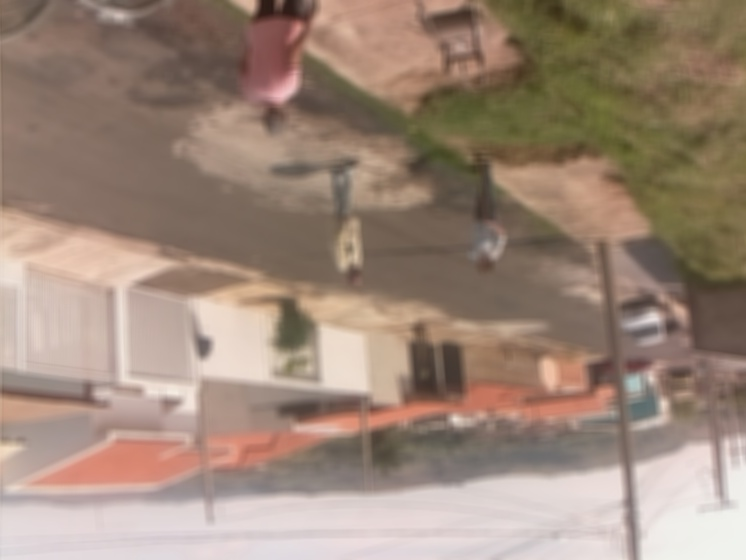person: (238, 0, 314, 138), (466, 161, 507, 274), (326, 160, 362, 287)
